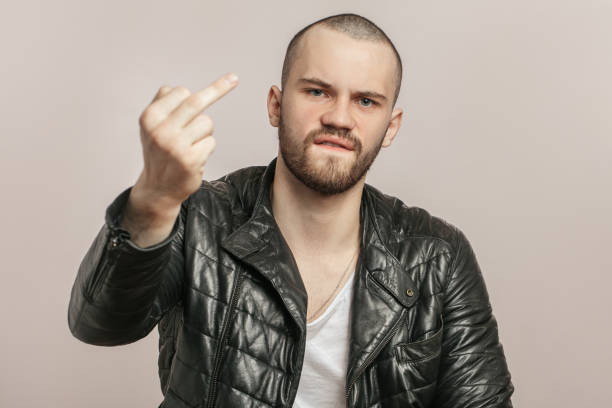insulting_gesture: (137, 71, 239, 200)
